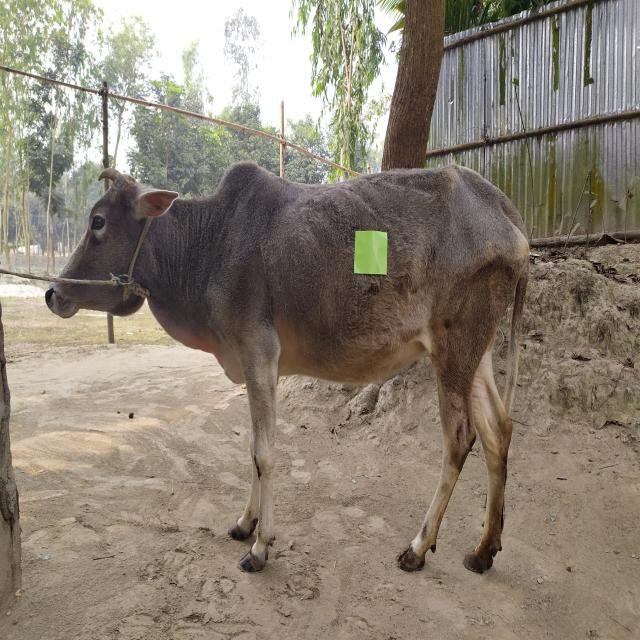badan_sapi: (212, 162, 530, 392)
sapi: (41, 151, 546, 587)
